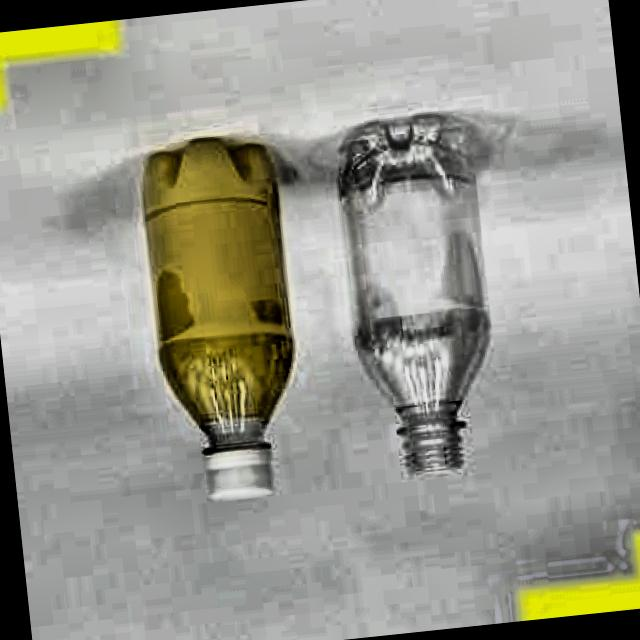plastic bottle: (337, 115, 489, 475), (141, 138, 293, 497)
